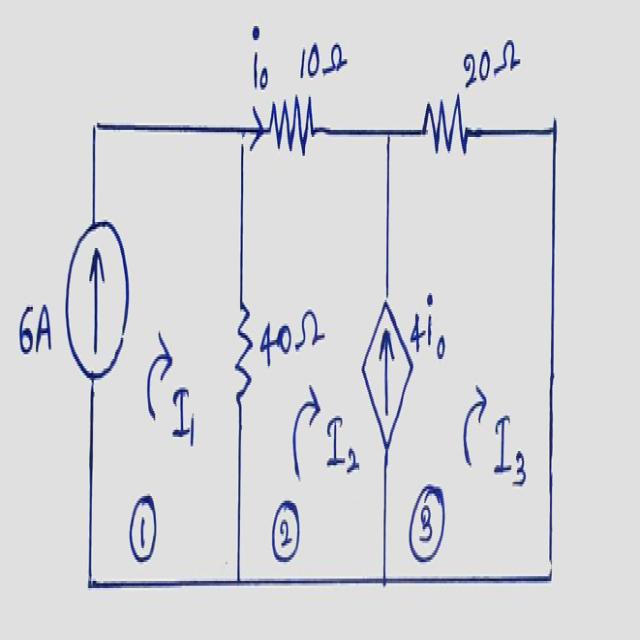current_source: (60, 214, 136, 394)
dependant_current: (359, 293, 414, 456)
resistor: (418, 91, 472, 175), (230, 288, 258, 415), (266, 97, 317, 164)
